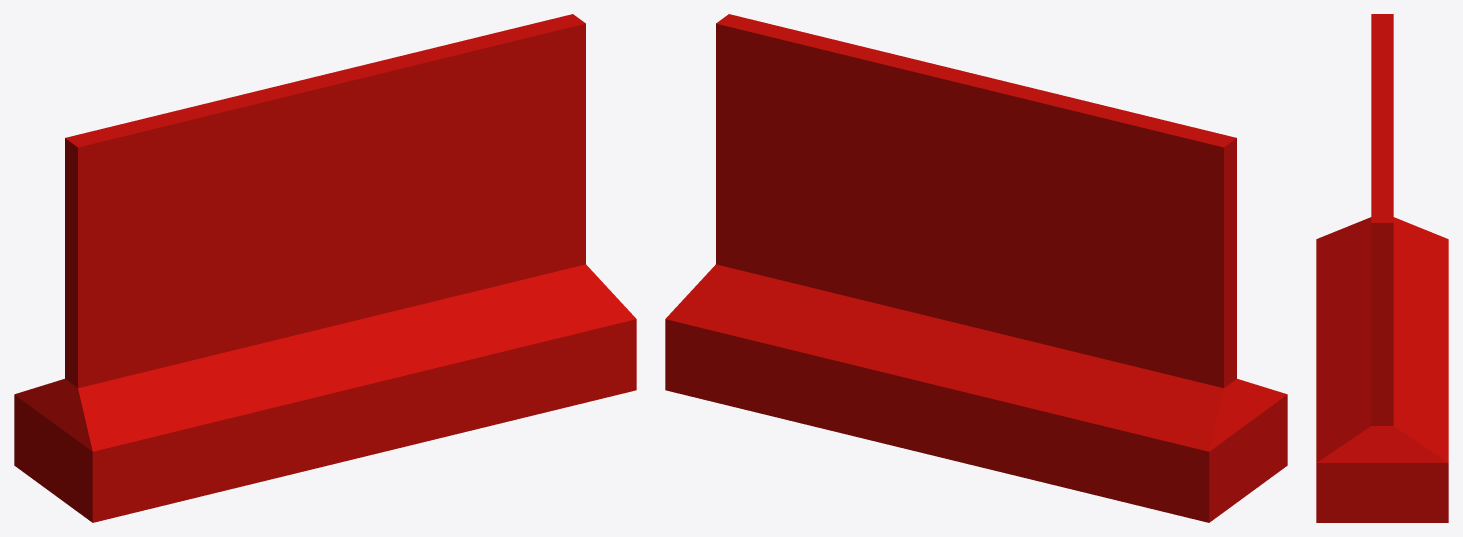
The model's file is jump.fbx.
The picture shows the model from 3 angles, left to right: view 1: azimuth 30°, elevation 25°; view 2: azimuth 150°, elevation 25°; view 3: azimuth 270°, elevation 25°; orthographic projection. The views are drawn at different scales.
Visible parts, largest first — view 1: Box002; view 2: Box002; view 3: Box002.
Part boxes in pixels (x1,y1,x2,y2): Box002: (14,14,636,522); Box002: (665,14,1287,522); Box002: (1316,14,1448,522).
Size of the model in its own units: 80 by 48.78 by 20.
